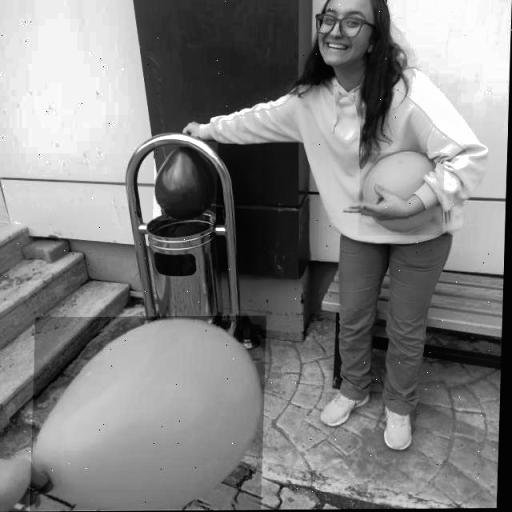balloon: (33, 316, 269, 511), (360, 154, 446, 236), (154, 142, 219, 220)
